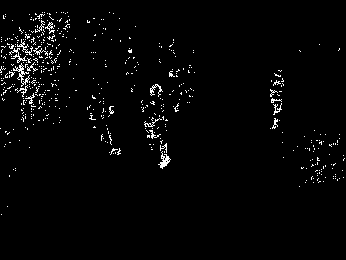person: (140, 84, 176, 176)
